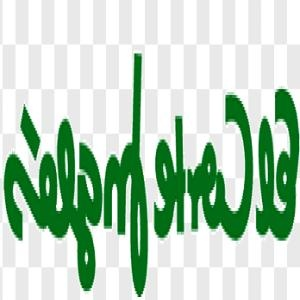corte_ingles: (297, 23, 300, 69)
